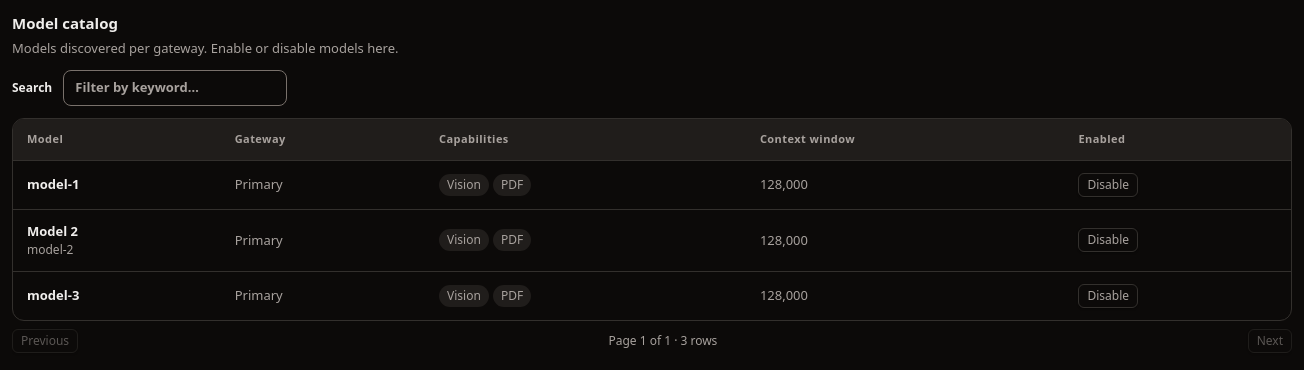
Test case: model catalog pagination, search and formatting › narrows rows by search and reports no match
The image size is (1304, 370).
Type "model-2" into the search field with test id "model-search". click: (175, 88)
box: [63,70,287,106]
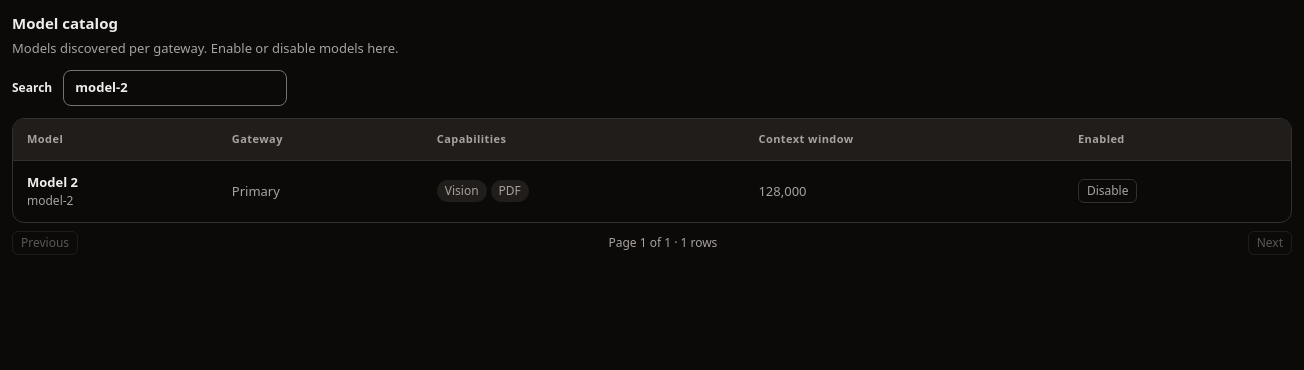
expect the text "No rows match the filter." is not shown: met
Replace the text in the search field with test id "model-search" with "no-such-model". click: (175, 88)
box: [63,70,287,106]
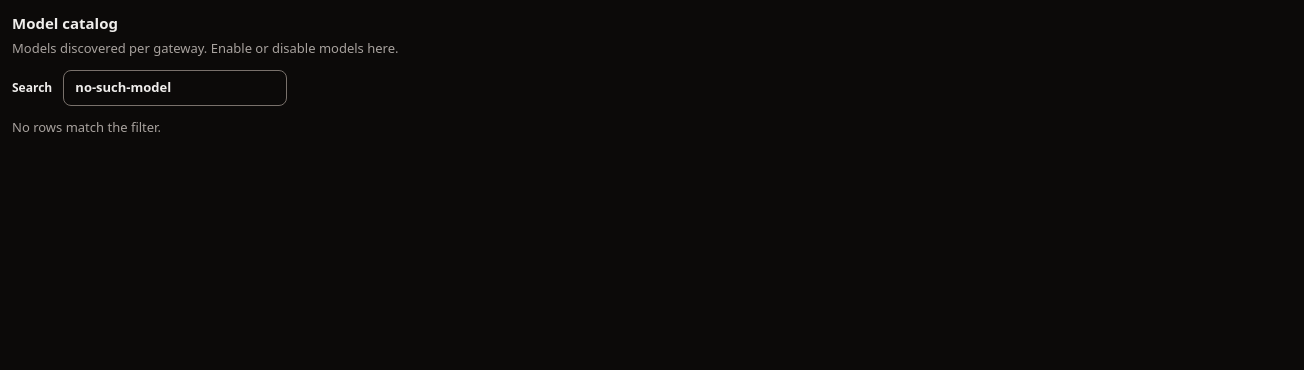
expect no rows are shown: met
expect the text "No rows match the filter." is shown: met, box [12,118,161,136]
